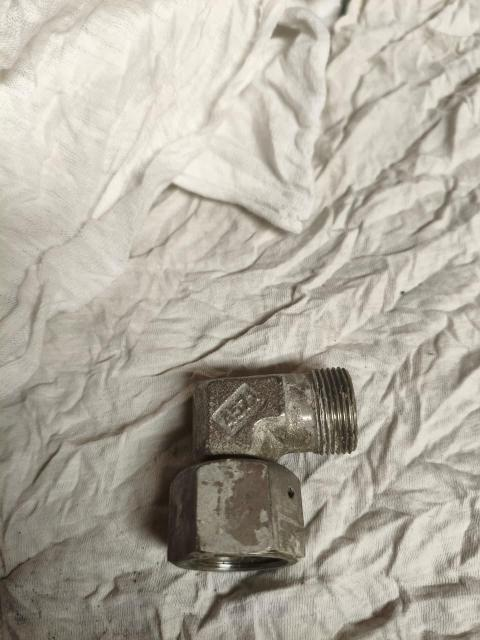Metal: (162, 380, 347, 570), (158, 465, 307, 568), (195, 375, 363, 465)
